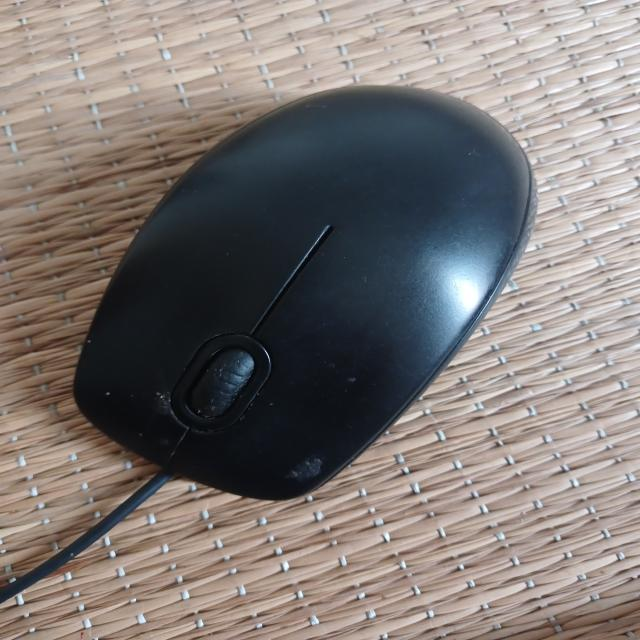mouse: (73, 74, 542, 504)
